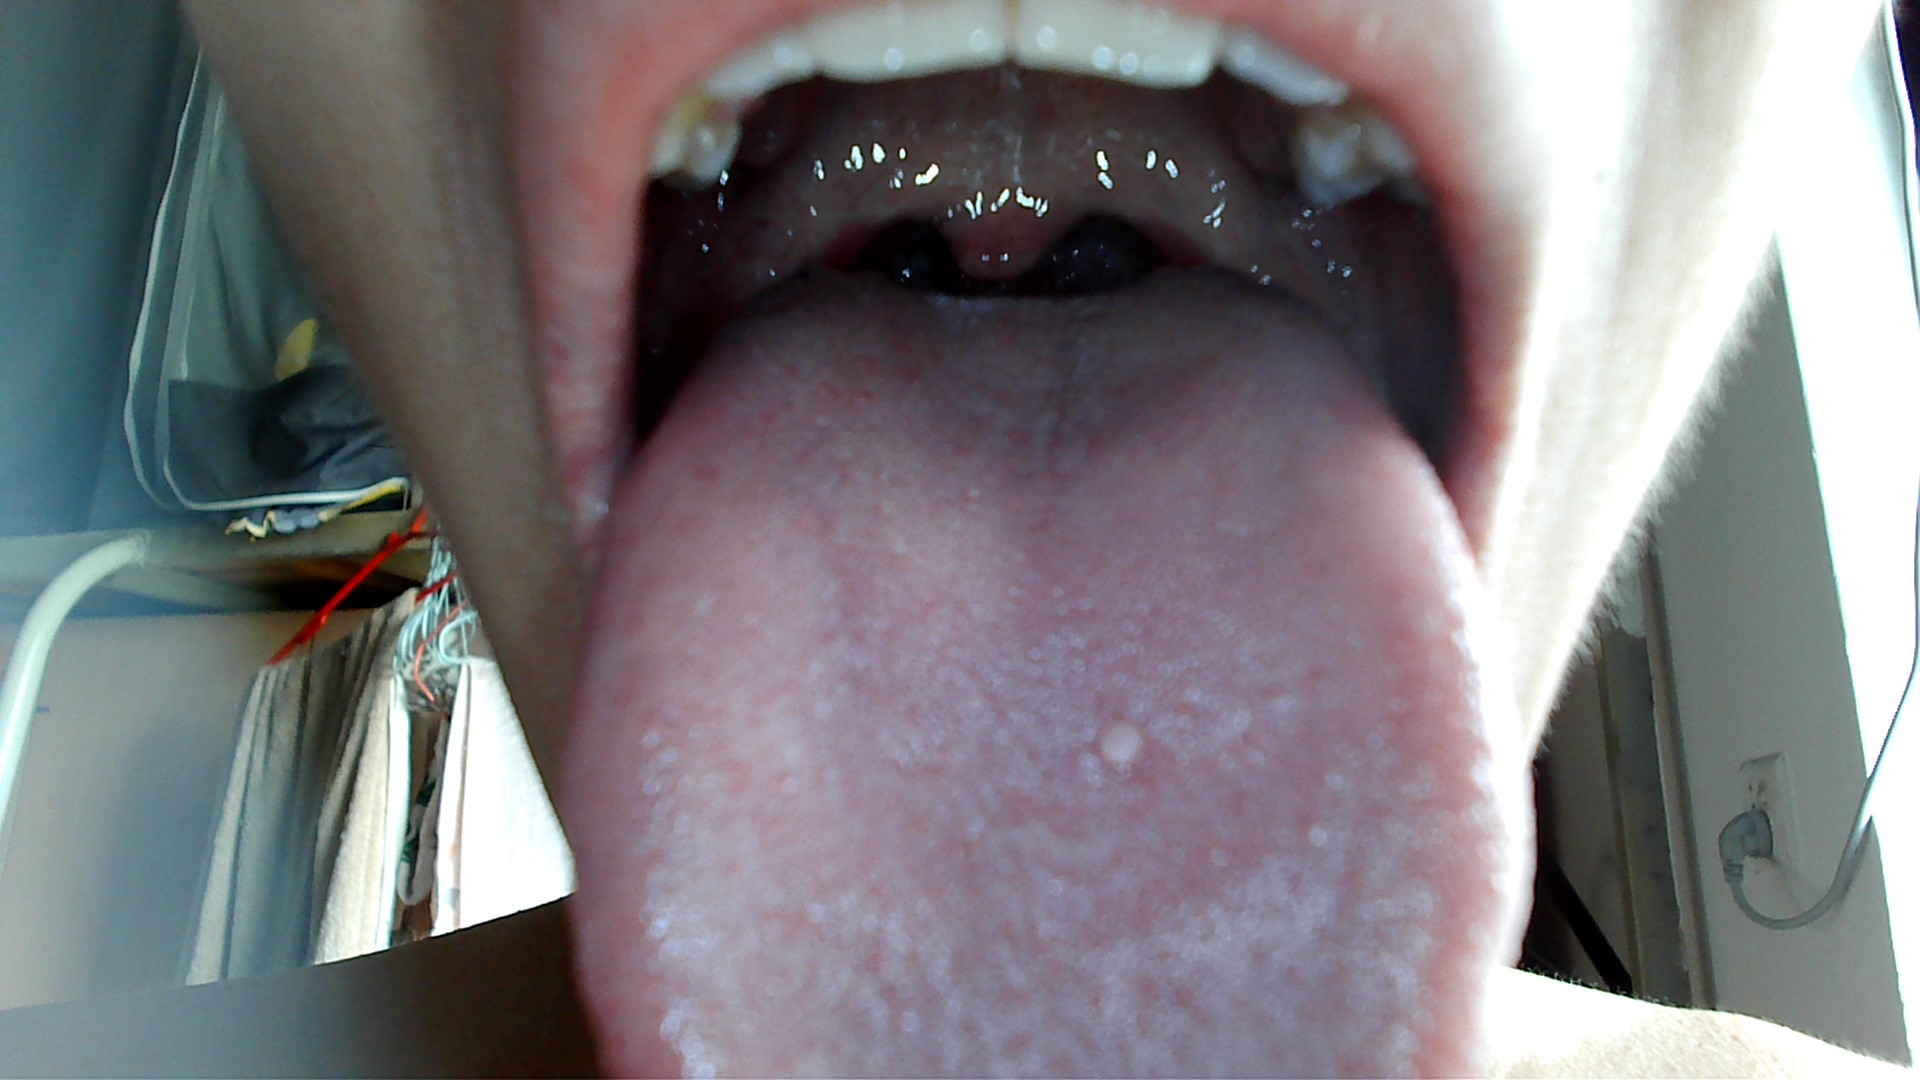throat: (1087, 140, 1266, 256), (758, 189, 878, 264)
